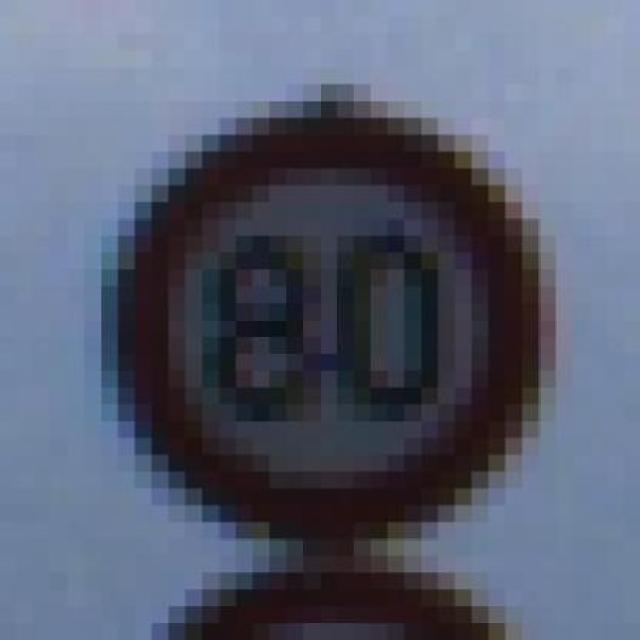forb_speed_over_80: (130, 115, 542, 536)
